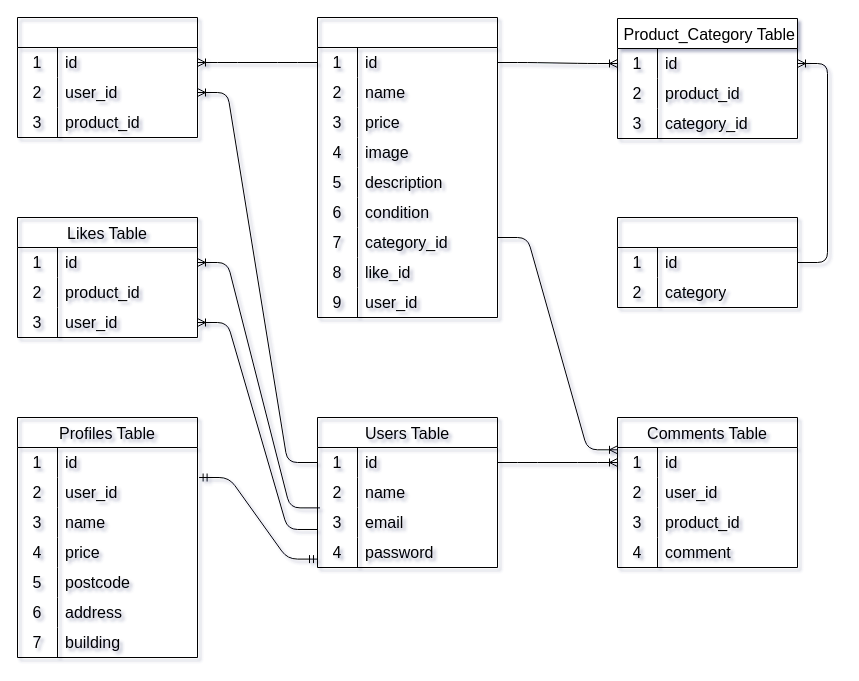
The diagram is 859 pixels wide and 681 high, and some of its shapes have lost their labels. Here are the shapes that lost their labels. From the top down, the box of each, then its label:
(16, 16, 198, 138): Orders Table
(316, 16, 498, 318): Products Table
(616, 216, 798, 308): Categories Table
